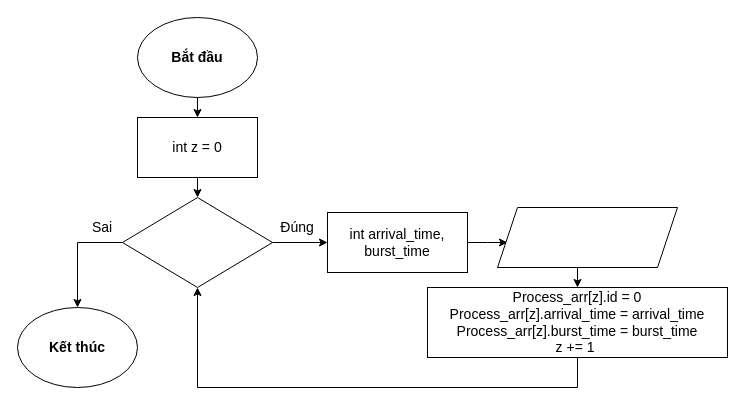
This 745x413 diagram has some shape labels left out. Each missing label, with the centre of its shape:
cin >> arrival_time >> burst_time: the point at 587,237
z < soluongProcess: the point at 197,242
